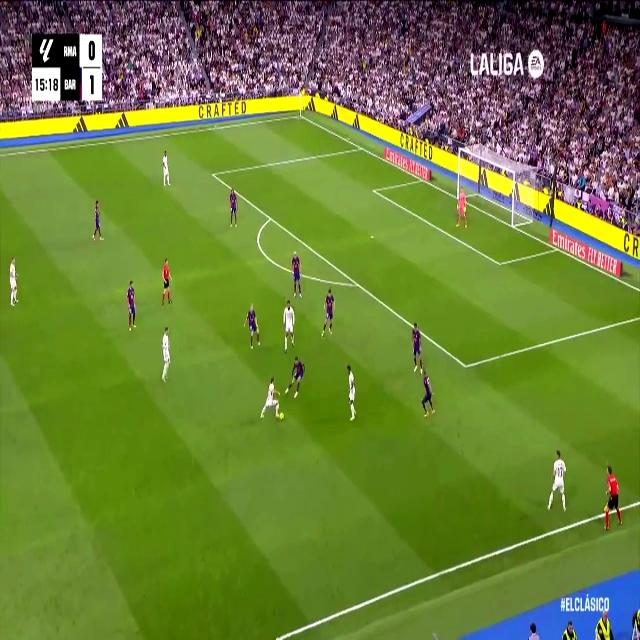bigarea_bottom_inner: (460, 353, 471, 378)
bigarea_top_inner: (210, 166, 217, 182)
bigarea_top_outter: (358, 141, 364, 152)
bottom_arc_area_intersection: (352, 275, 362, 293)
smallarea_top_inner: (371, 185, 377, 195)
top_arc_area_intersection: (267, 210, 273, 224)
